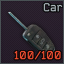Folding car key: (0, 0, 64, 64)
